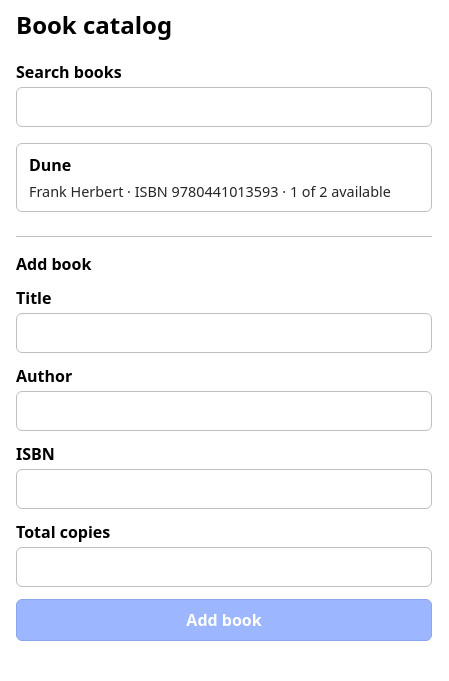
Test: BookCatalogPage › adds a book as a librarian and refetches the list with the current query
expect the text "Dune" is shown: met, box [29,154,71,176]
Type "Emma" into the field labelled "Title" at (224, 333), box [16,313,432,353]
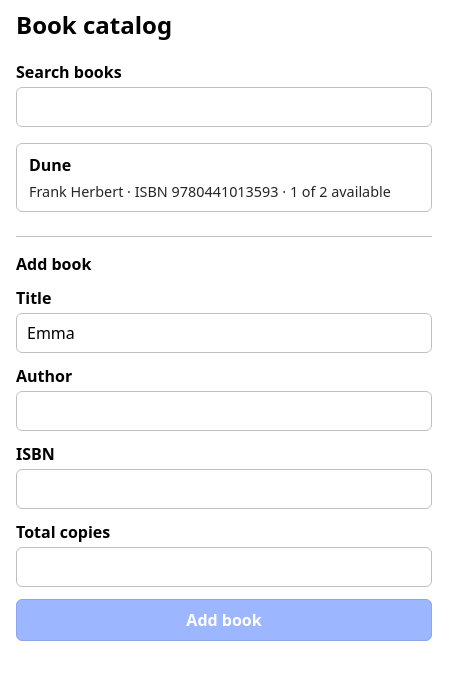
Type "Jane Austen" into the field labelled "Author" at (224, 411), box [16,391,432,431]
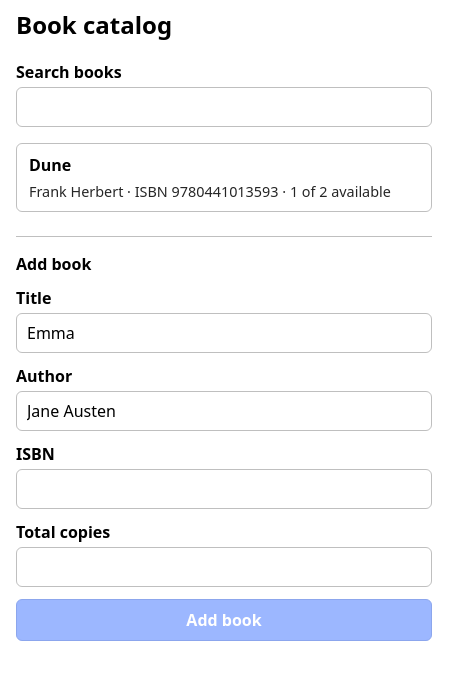
Type "9780141439587" into the field labelled "ISBN" at (224, 489), box [16,469,432,509]
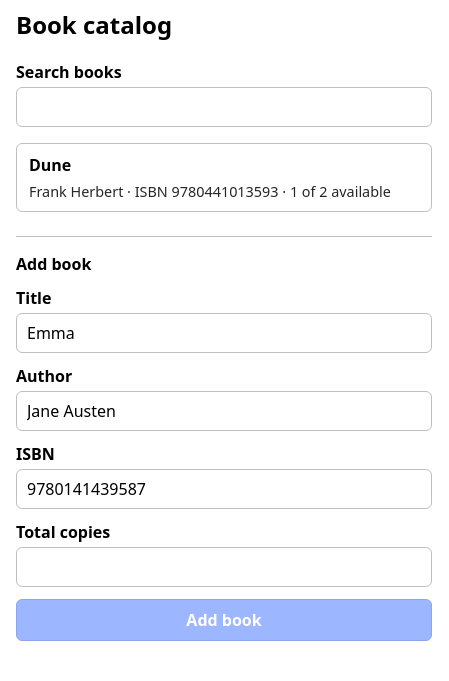
Type "1" into the number field labelled "Total copies" at (224, 567), box [16,547,432,587]
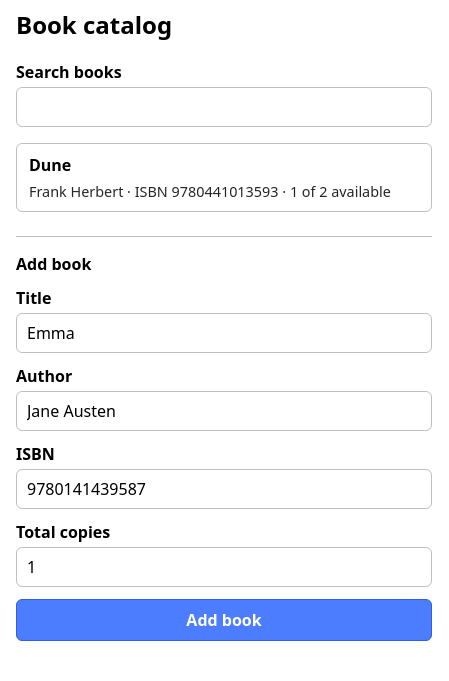
Click the button "Add book" at (224, 620), box [16,599,432,641]
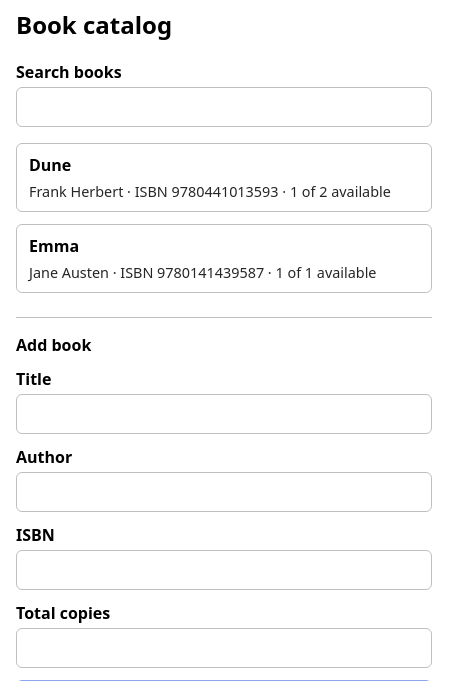
expect the text "Emma" is shown: met, box [29,235,79,257]
